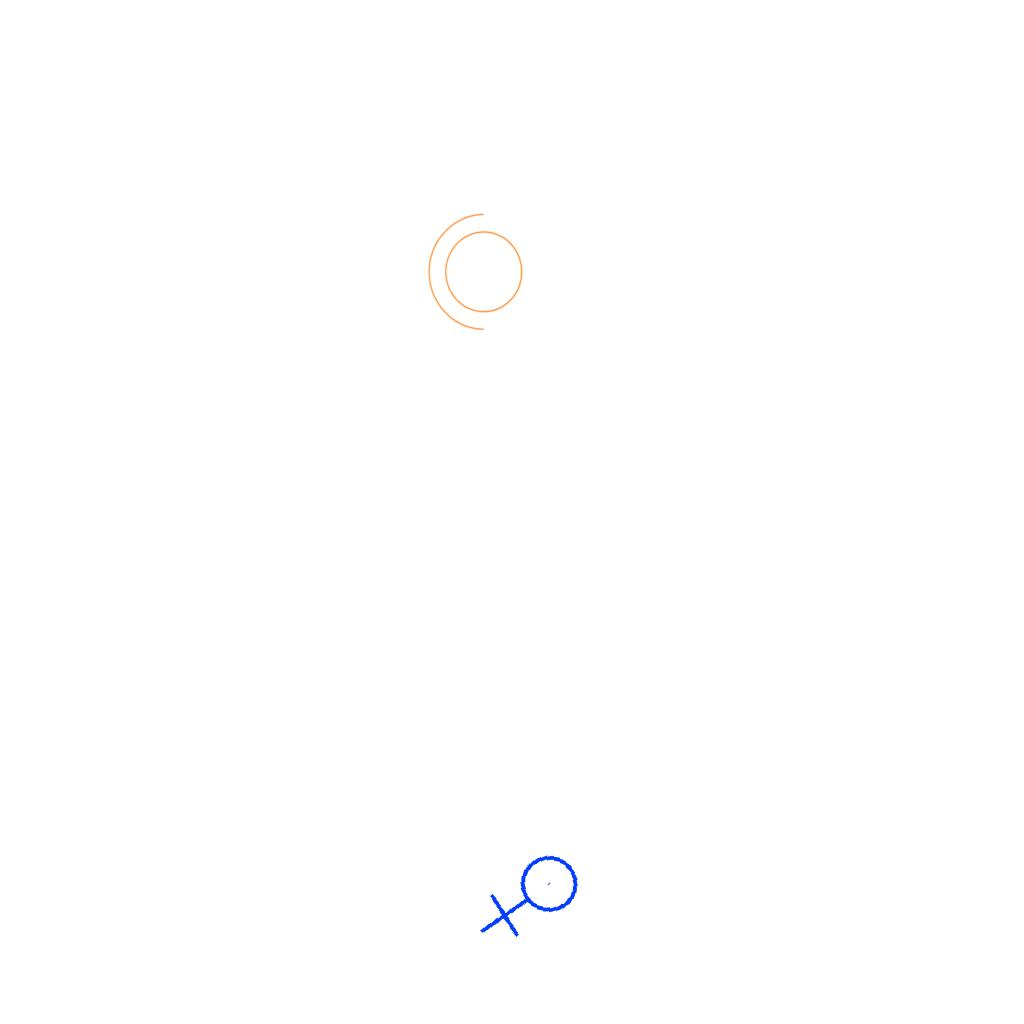Elektroanschluss_allgemein_230V_Geraeteanschlussdose_230V: (478, 844, 591, 954)
Scheinwerfer_fuer_Alarmbeleuchtung: (423, 209, 535, 341)
